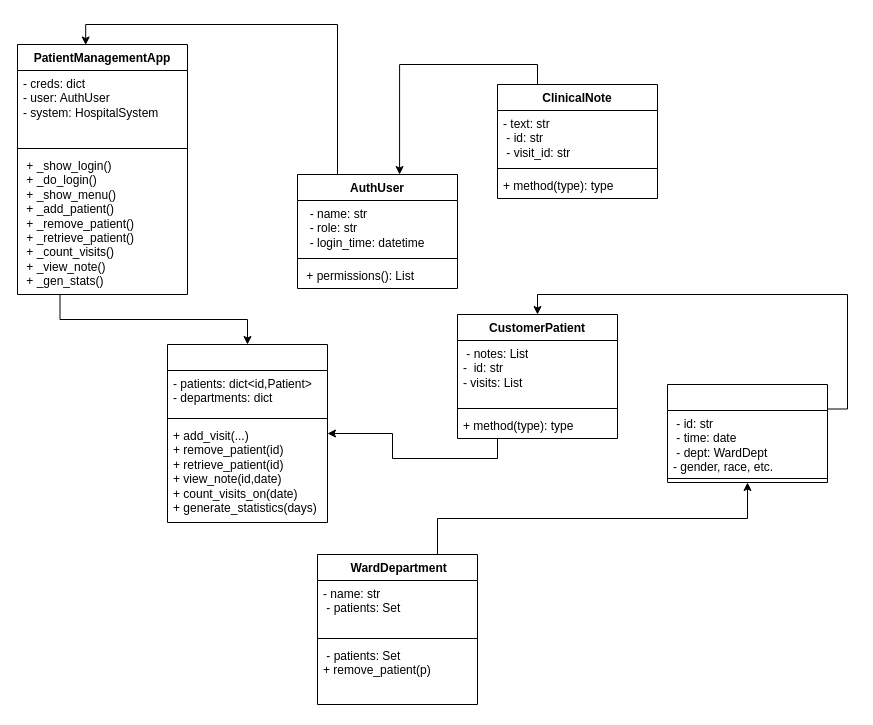
Image size: 873x725. Some labels were removed from this diagram. The box of each missing label's shape, as (x1, y1, x2, y2) in pixels:
AppointmentVisit: (666, 384, 828, 482)
HospitalSystem: (166, 344, 328, 522)
